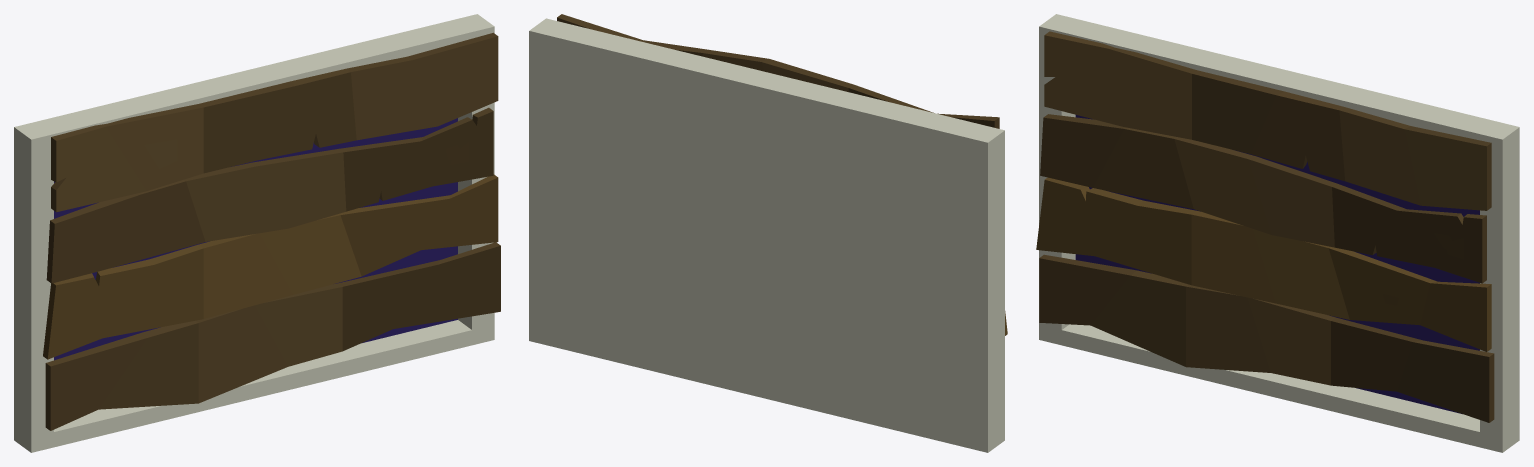
File: Window4.fbx
3 views of the same model, side by side, from view 1: azimuth 30°, elevation 25°; view 2: azimuth 150°, elevation 25°; view 3: azimuth 330°, elevation 25° (orthographic).
Visible parts, largest first — view 1: Cube.019; view 2: Cube.019; view 3: Cube.019.
Part boxes in pixels (bbox=[...]): Cube.019: bbox=[14, 14, 500, 452]; Cube.019: bbox=[529, 14, 1007, 452]; Cube.019: bbox=[1036, 14, 1519, 452].
Bounding box in the file's own units: 1501 × 977 × 190.
